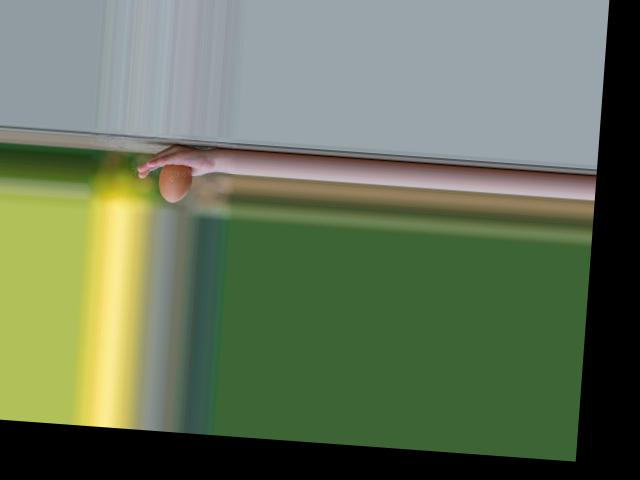egg: (158, 163, 194, 203)
